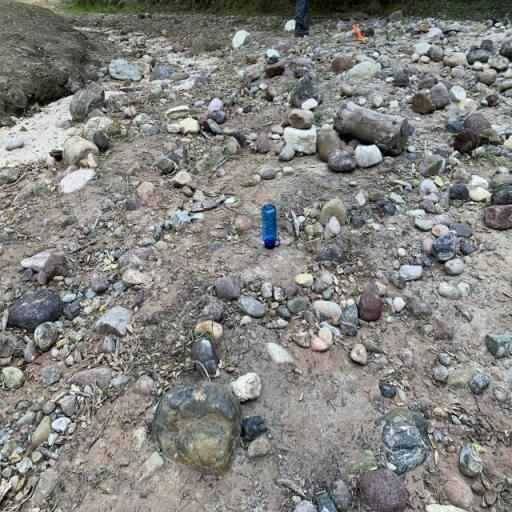bottle: (262, 204, 280, 250)
